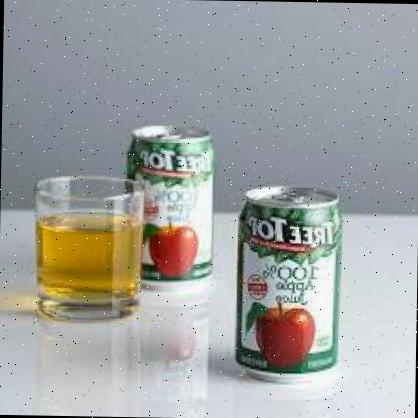can: (230, 182, 346, 391)
